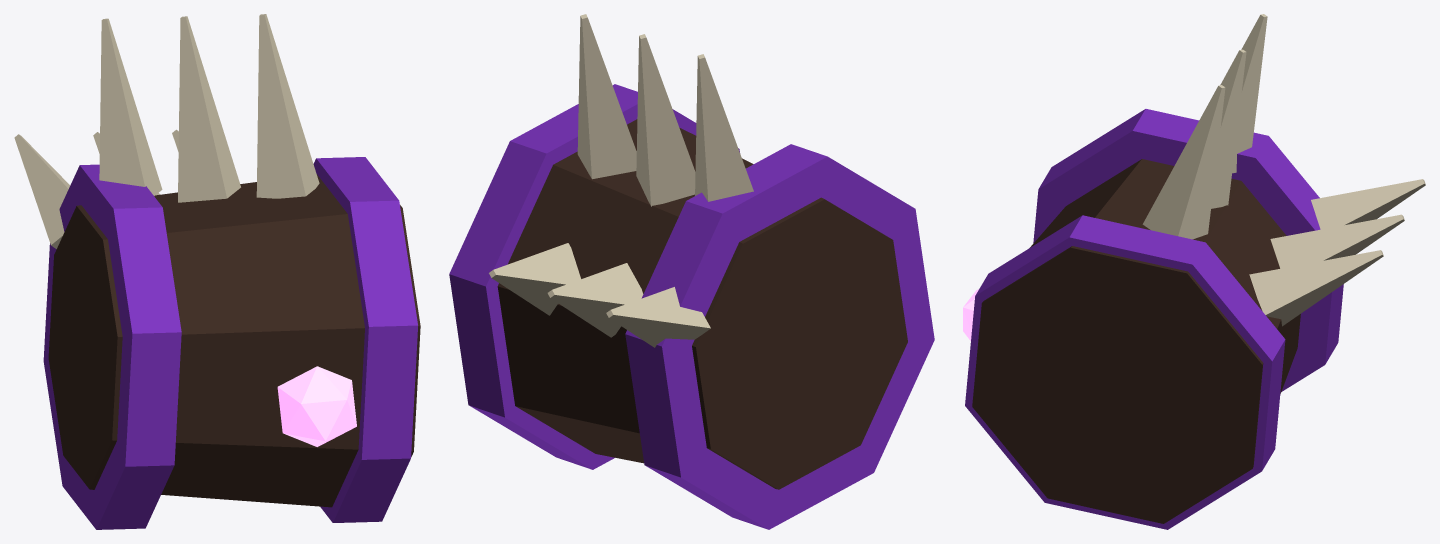
The model's file is Boss_Archer_Bracer_L.fbx.
The picture shows the model from 3 angles, left to right: view 1: azimuth 30°, elevation 25°; view 2: azimuth 150°, elevation 25°; view 3: azimuth 270°, elevation 25°; orthographic projection. The views are drawn at different scales.
Parts seen in each view (by area): view 1: Boss_Archer_Bracer_L; view 2: Boss_Archer_Bracer_L; view 3: Boss_Archer_Bracer_L.
Boxes of the visible parts, left/top/right/bottom form: Boss_Archer_Bracer_L: left=14, top=14, right=420, bottom=529; Boss_Archer_Bracer_L: left=449, top=14, right=934, bottom=529; Boss_Archer_Bracer_L: left=963, top=14, right=1425, bottom=529.
Bounding box in the file's own units: 0.1922 × 0.2539 × 0.2478.
